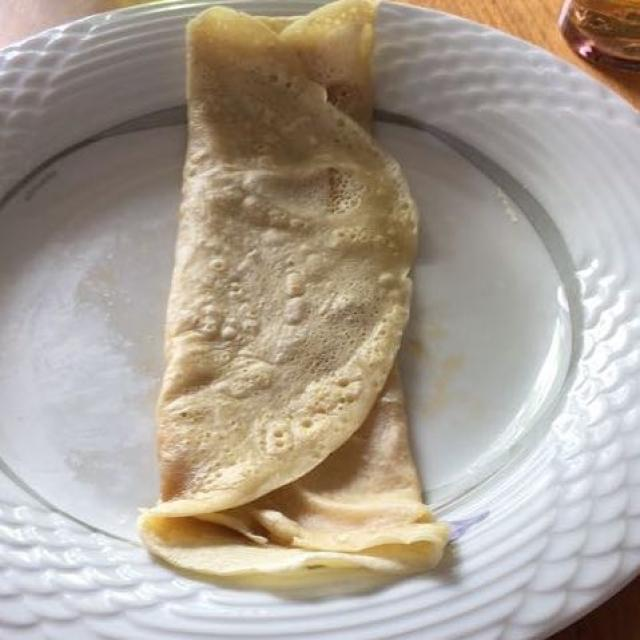crepe-plain: (144, 15, 439, 579)
